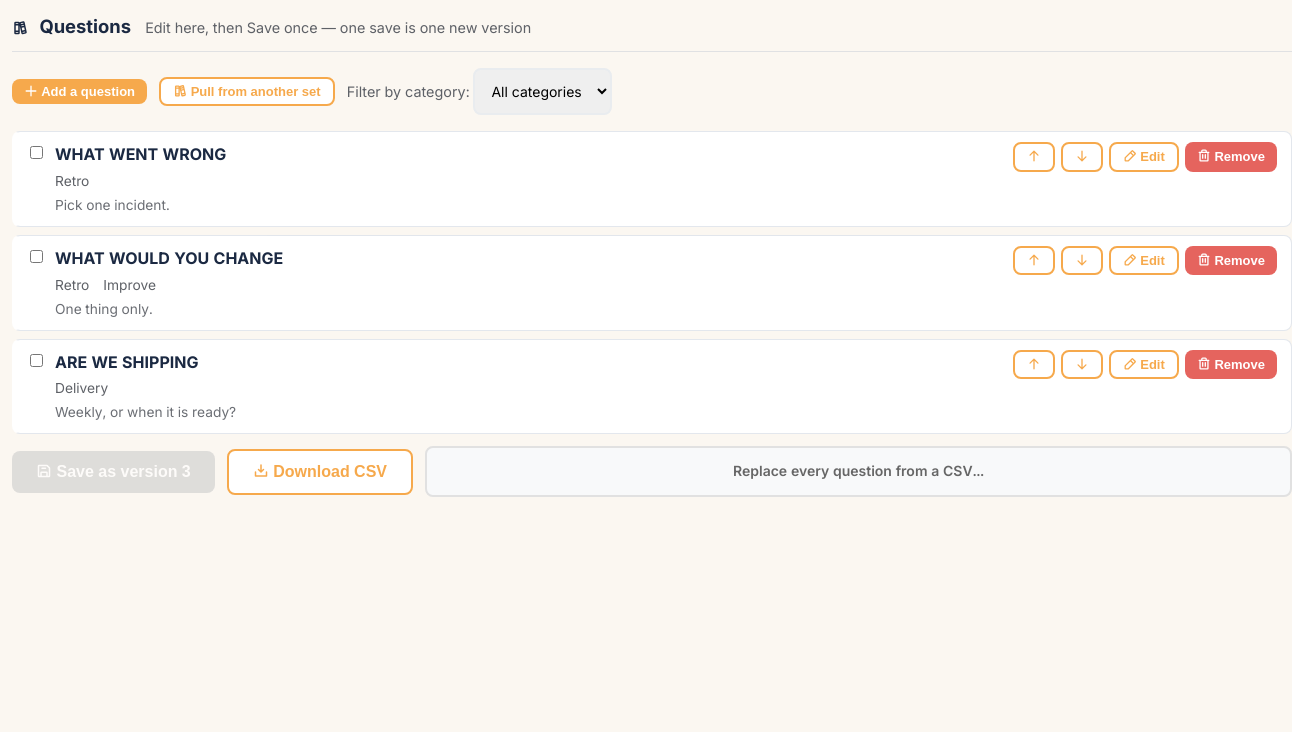
Test: the working copy › will not save until something has changed
Expected: the text "WHAT WENT WRONG" is shown, [55,142,226,168]
Expected: the button "Save as version 3" is disabled, [12,450,215,492]
What coordinates should you click on to do the following:
click the button "Remove" in the row of "ARE WE SHIPPING"
I would click on:
 (1231, 364)
Its box is [1185,350,1277,379].
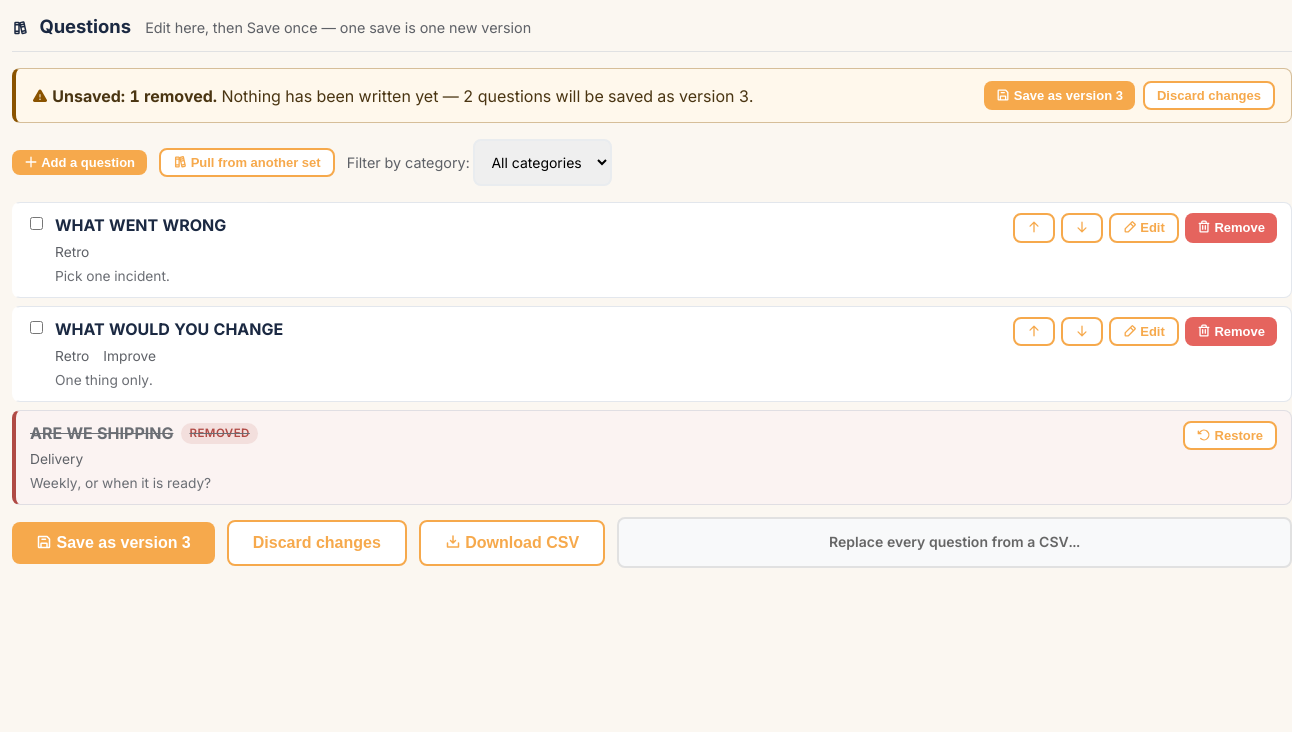
Expected: the button "Save as version 3" in the row of "as version 3." is enabled, [984,81,1135,110]
